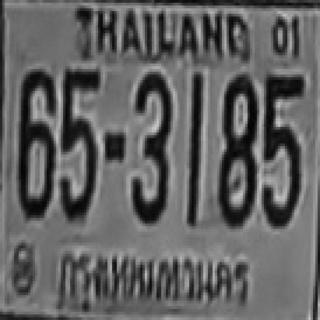N01: (189, 72, 203, 182)
N03: (126, 64, 179, 236)
N05: (262, 72, 304, 231), (61, 56, 98, 218)
N06: (20, 62, 57, 215)
N08: (217, 73, 255, 225)
P04: (58, 244, 263, 316)
